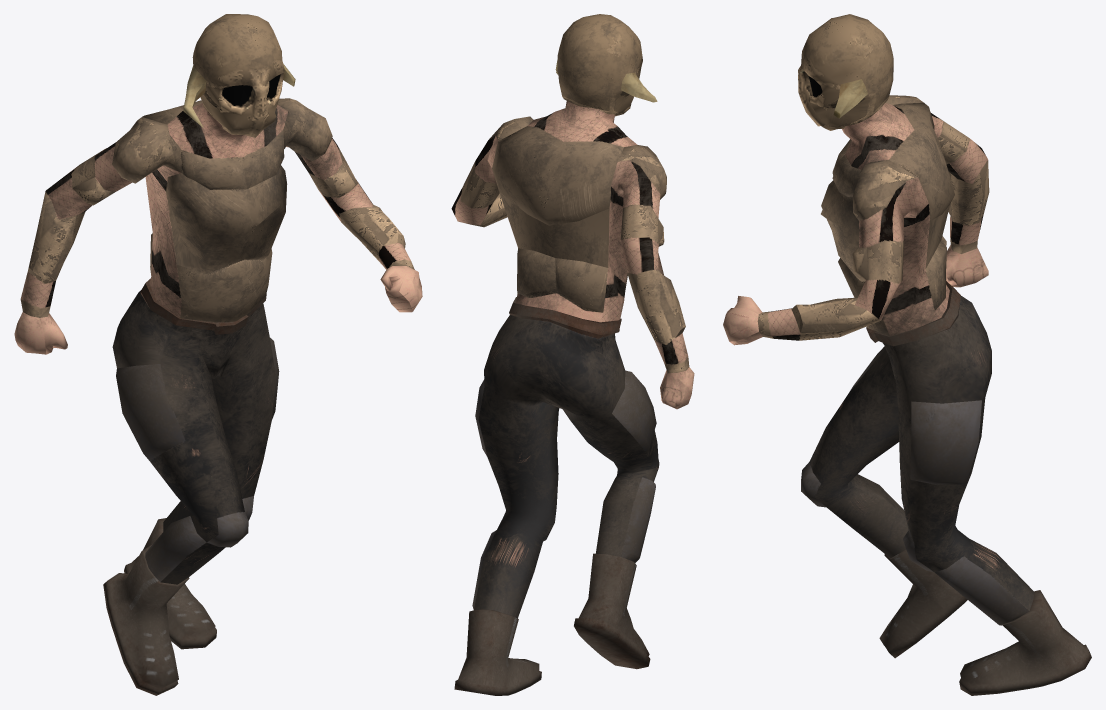
The model's file is Anim_correr_npc1.0028.obj.
3 renders of one model, left to right at view 1: azimuth 30°, elevation 25°; view 2: azimuth 150°, elevation 25°; view 3: azimuth 270°, elevation 25°, orthographic. The views are drawn at different scales.
Visible parts, largest first — view 1: Anim_correr_npc1; view 2: Anim_correr_npc1; view 3: Anim_correr_npc1.
Part boxes in pixels (left/top/right/bottom): Anim_correr_npc1: left=14, top=14, right=422, bottom=695; Anim_correr_npc1: left=451, top=14, right=694, bottom=695; Anim_correr_npc1: left=723, top=14, right=1091, bottom=695.
Size of the model in its own units: 4.29 by 8.97 by 4.55.
